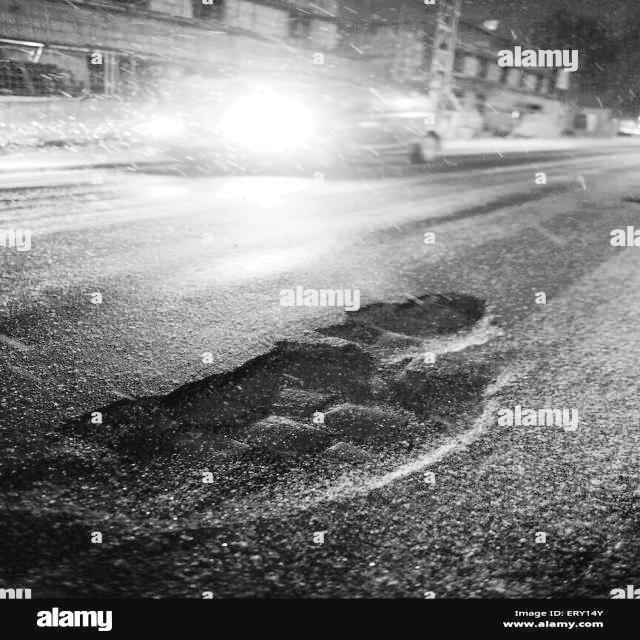Pothole: (96, 363, 487, 514), (353, 276, 488, 353)
